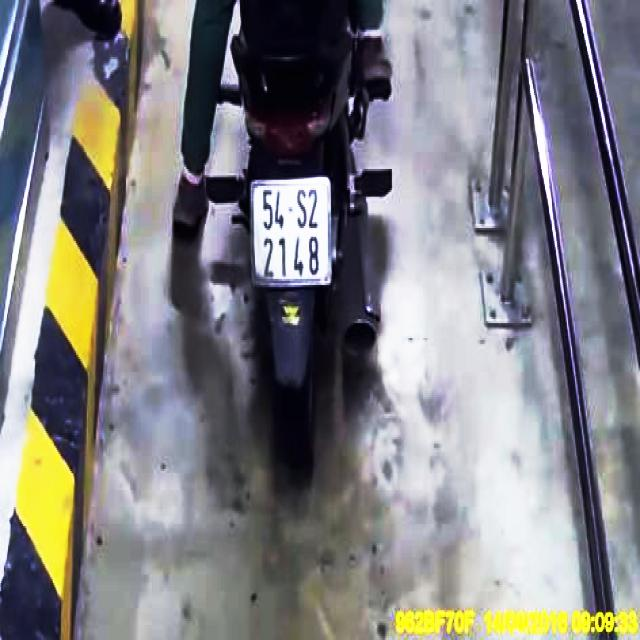license_plate: (253, 179, 334, 286)
